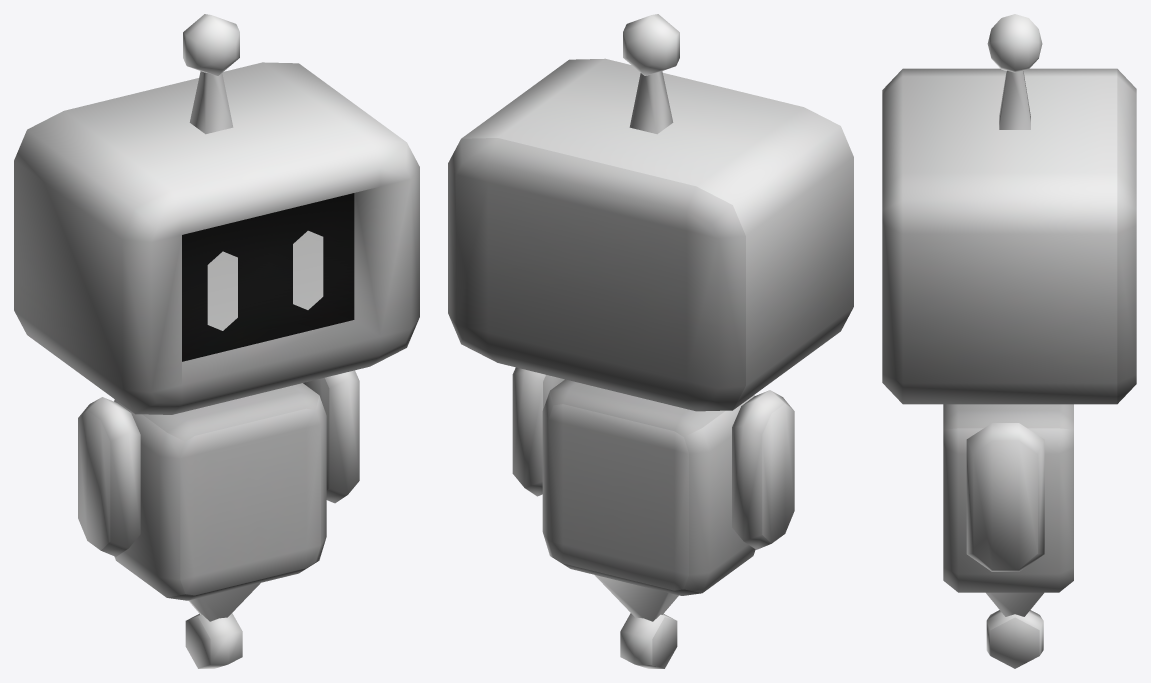
File: TabletRobo.fbx
3 views of the same model, side by side, from view 1: azimuth 30°, elevation 25°; view 2: azimuth 150°, elevation 25°; view 3: azimuth 270°, elevation 25° (orthographic).
Visible parts, largest first — view 1: TabletRobo; view 2: TabletRobo; view 3: TabletRobo.
Boxes of the visible parts, x1,y1,x2,y2 form: TabletRobo: (14, 14, 419, 668); TabletRobo: (448, 14, 853, 668); TabletRobo: (882, 14, 1136, 668).
Size of the model in its own units: 41.55 by 87.26 by 30.91.
